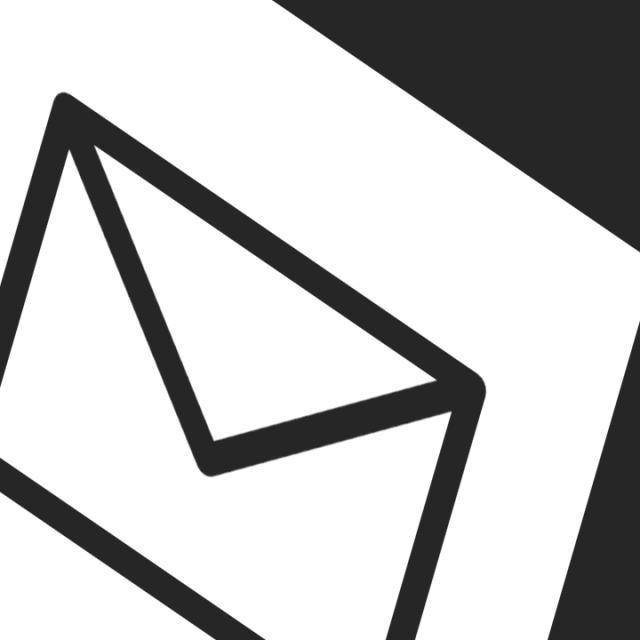letter: (1, 94, 493, 640)
